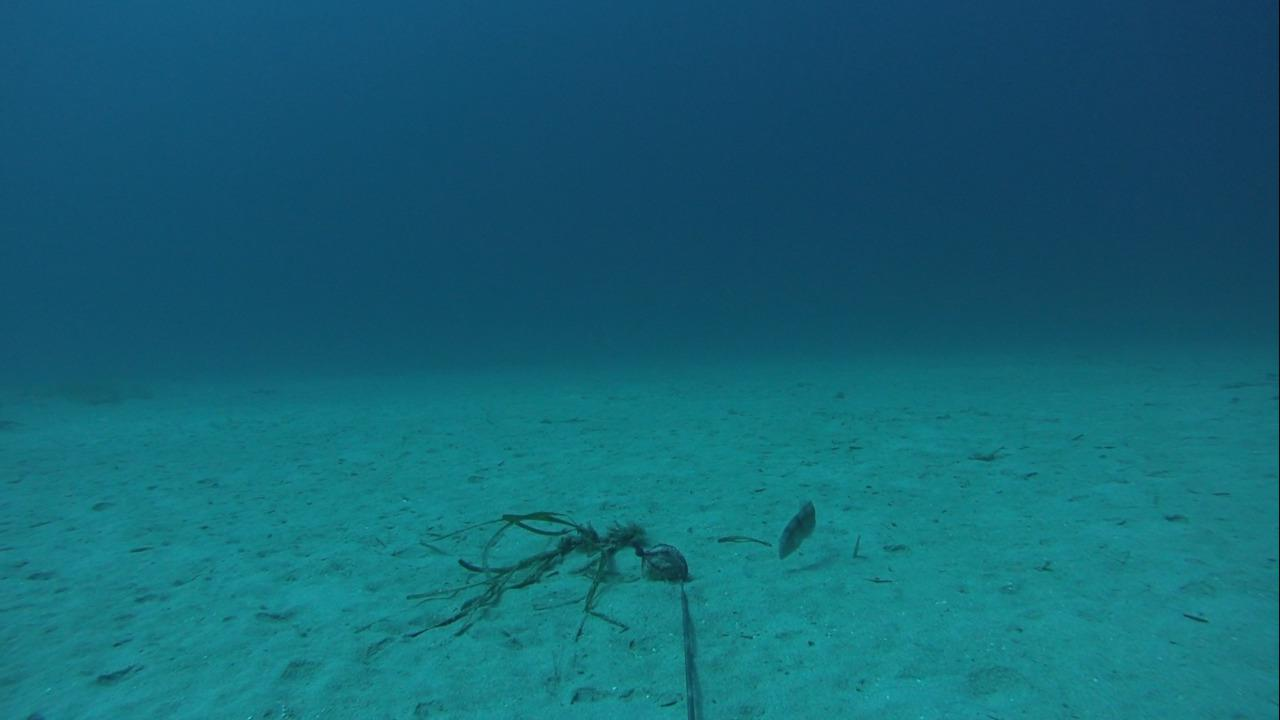raor: (772, 494, 820, 562)
